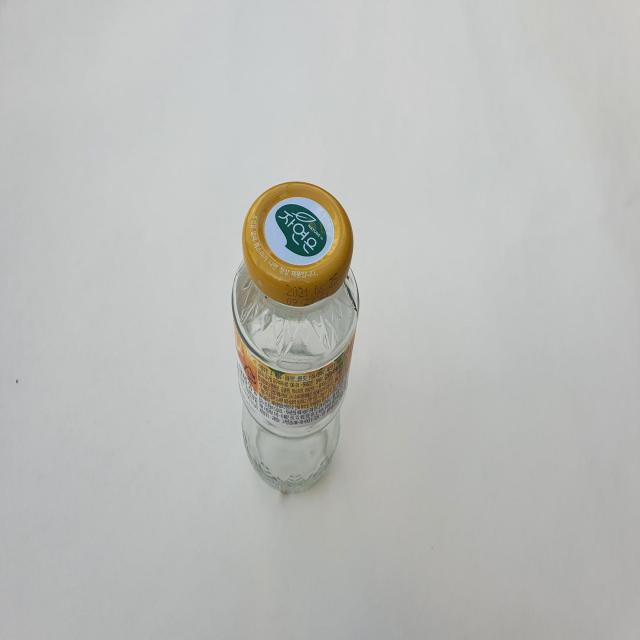glass: (232, 181, 359, 492)
